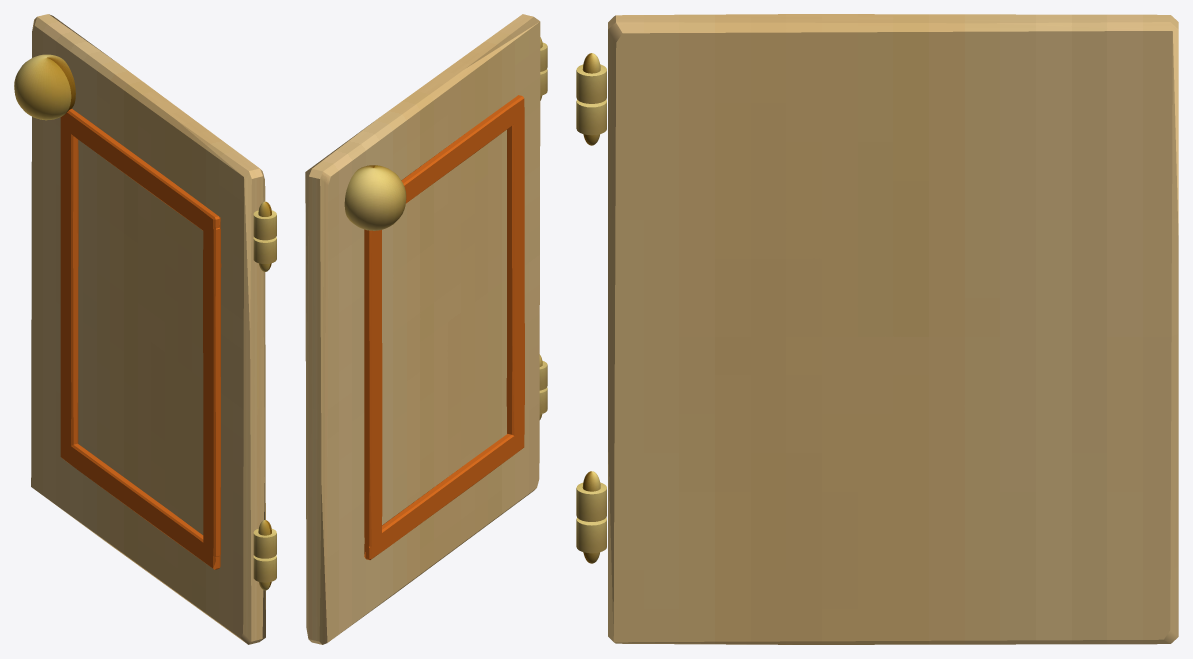
Rendered from puertagab3.obj.
3 views of the same model, side by side, from view 1: azimuth 30°, elevation 25°; view 2: azimuth 150°, elevation 25°; view 3: azimuth 270°, elevation 25° (orthographic). The views are drawn at different scales.
Visible parts, largest first — view 1: cuarto:cuarto:polySurface11572; view 2: cuarto:cuarto:polySurface11572; view 3: cuarto:cuarto:polySurface11572.
Part boxes in pixels (left/top/right/bottom): cuarto:cuarto:polySurface11572: left=14, top=14, right=276, bottom=644; cuarto:cuarto:polySurface11572: left=305, top=14, right=547, bottom=644; cuarto:cuarto:polySurface11572: left=576, top=14, right=1178, bottom=644.
Bounding box in the file's own units: 0.1729 × 1.17 × 1.03.
3 materials, 3 textured.
